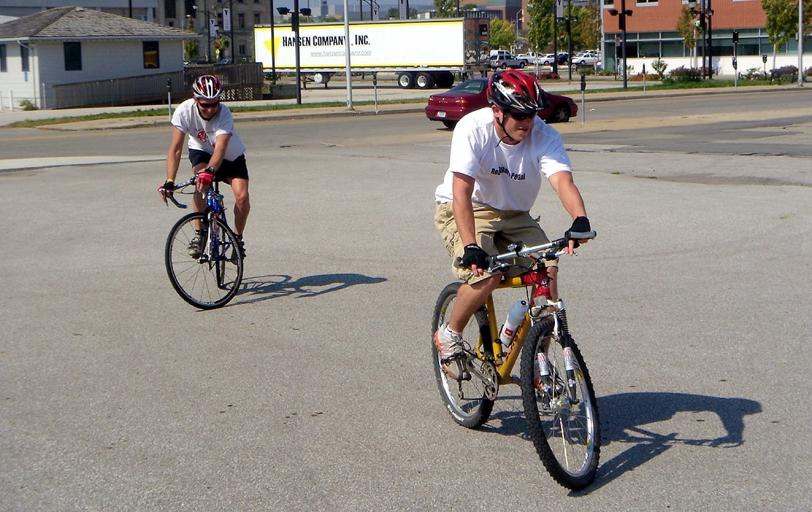non-vehicle: (431, 232, 601, 495), (157, 170, 245, 309)
